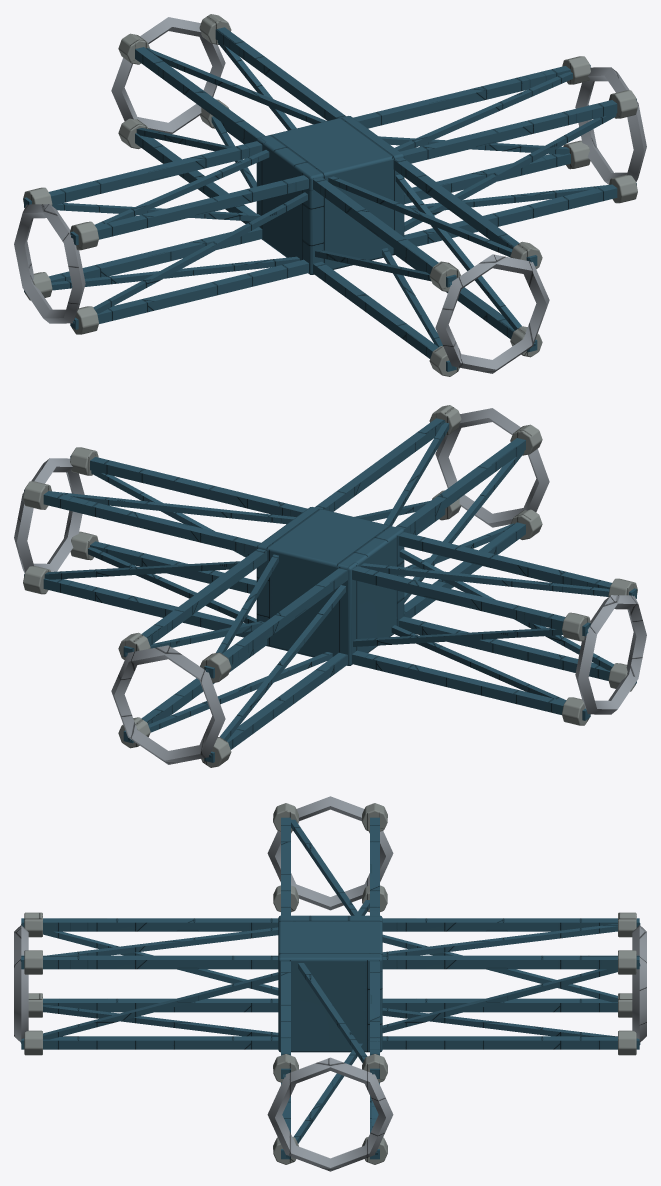
Rendered from truss_cross_lod2.glb.
The picture shows the model from 3 angles, top to bottom: view 1: azimuth 30°, elevation 25°; view 2: azimuth 150°, elevation 25°; view 3: azimuth 270°, elevation 25°; orthographic projection. The views are drawn at different scales.
Visible parts, largest first — view 1: LOD2_Armor, LOD2_BrushedMetal, LOD2_Hull; view 2: LOD2_Armor, LOD2_BrushedMetal, LOD2_Hull; view 3: LOD2_Armor, LOD2_BrushedMetal, LOD2_Hull.
Part boxes in pixels (x1=…): LOD2_Armor: x1=24, y1=27, x2=636, y2=371; LOD2_BrushedMetal: x1=14, y1=17, x2=646, y2=373; LOD2_Hull: x1=23, y1=14, x2=637, y2=376; LOD2_Armor: x1=24, y1=418, x2=636, y2=762; LOD2_BrushedMetal: x1=14, y1=408, x2=646, y2=764; LOD2_Hull: x1=23, y1=405, x2=637, y2=767; LOD2_Armor: x1=20, y1=817, x2=640, y2=1159; LOD2_BrushedMetal: x1=14, y1=796, x2=646, y2=1171; LOD2_Hull: x1=24, y1=803, x2=636, y2=1164.
Bounding box in the file's own units: 8.19 × 1.63 × 8.19.
Materials: 3 (3 with a texture image).
